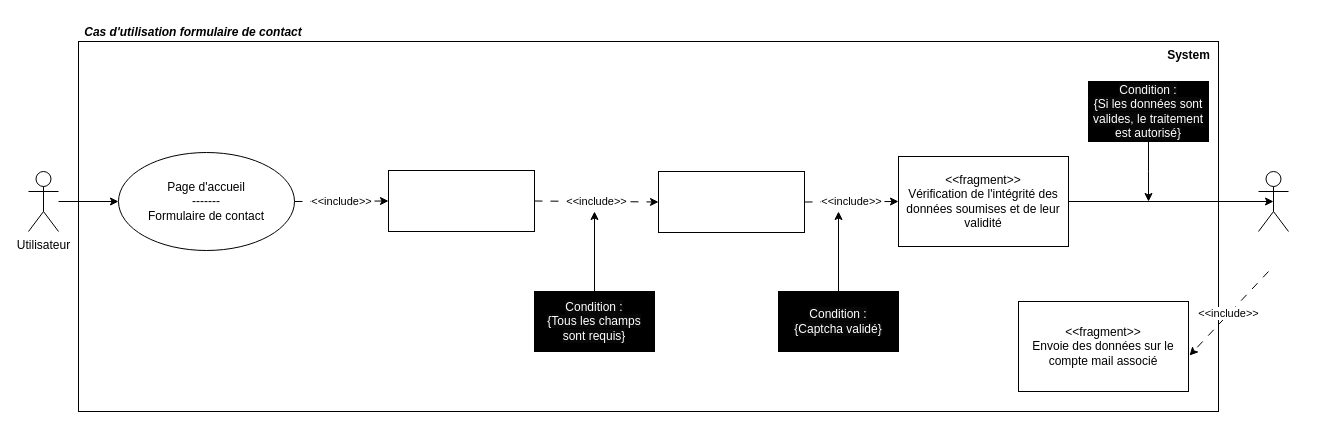
Image size: 1327x429. Some labels were removed from this diagram. Here are the shapes that lost their labels. From the top down, the box of each, then its label:
(388, 170, 534, 232): <<fragment>> Soumission du fomulaire
(658, 170, 804, 232): <<fragment>> Soumission du captcha
(1258, 170, 1288, 232): <<système>> SMTP
